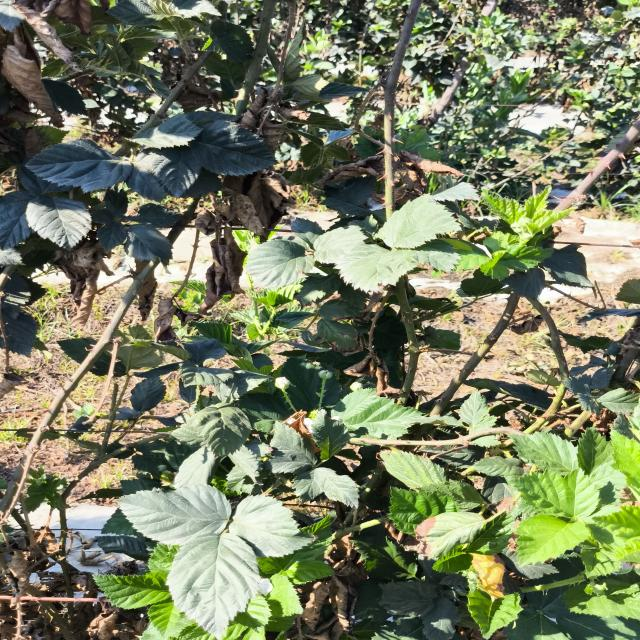boton: (275, 377, 290, 390), (318, 370, 332, 381), (350, 381, 363, 391)
